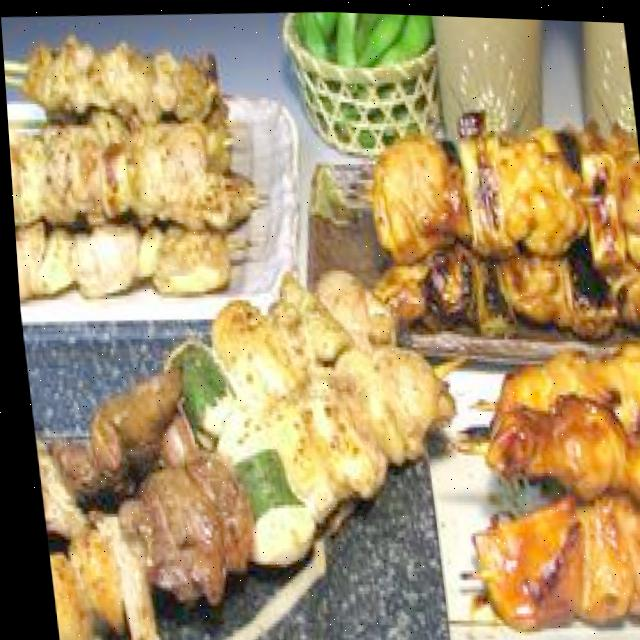烧串烤肉: (4, 79, 640, 640)
